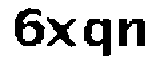6: (5, 4, 46, 51)
n: (116, 15, 149, 51)
q: (80, 16, 114, 60)
x: (45, 14, 78, 50)
